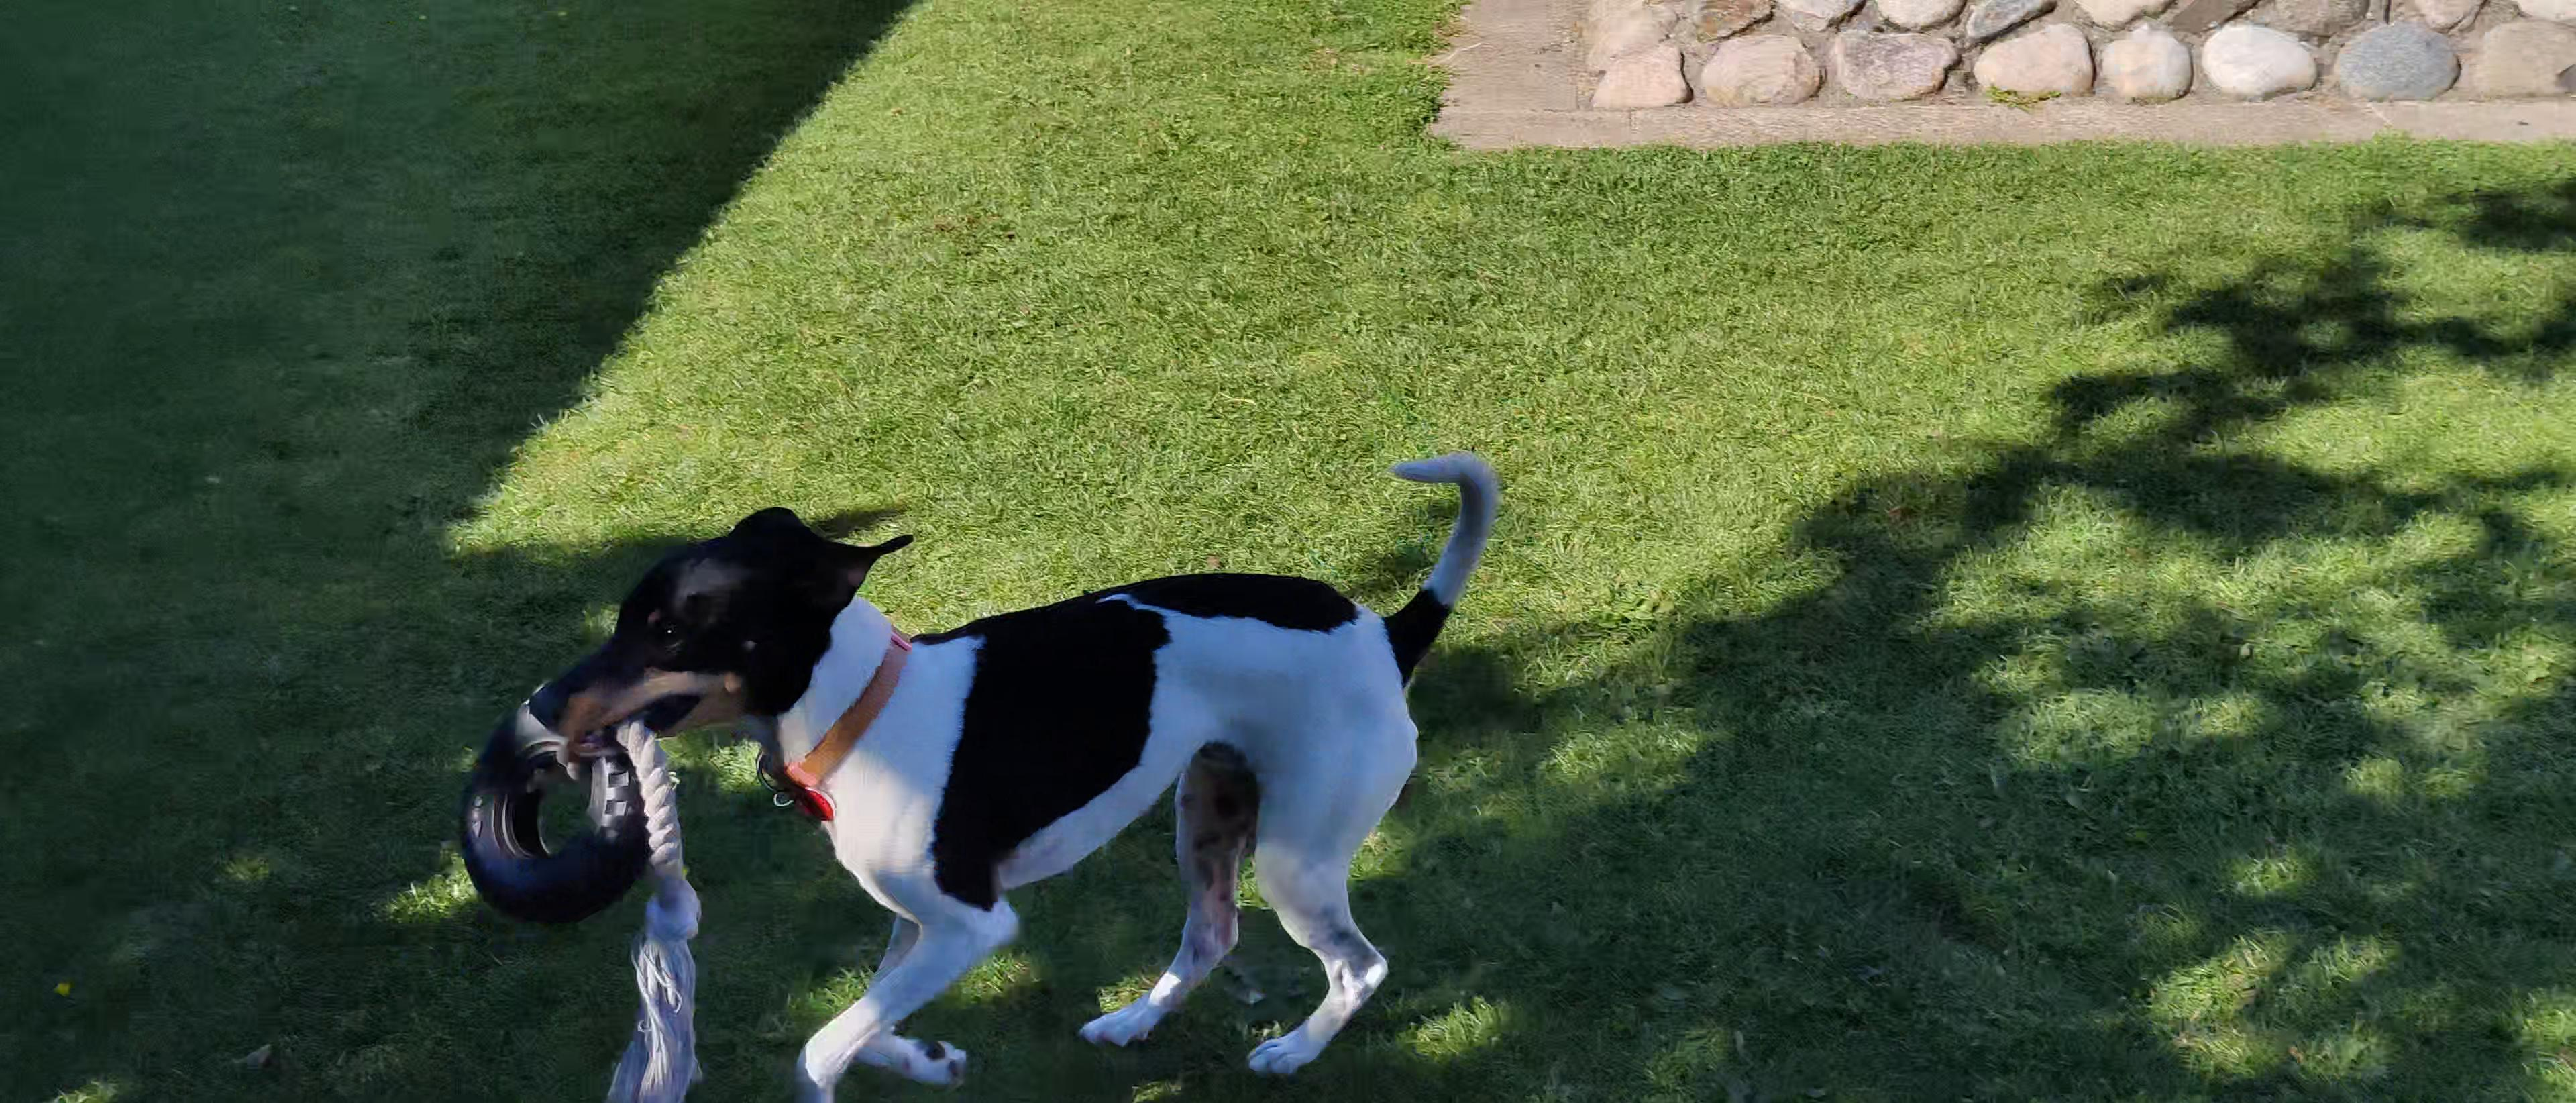Dog: (519, 445, 1508, 1103)
